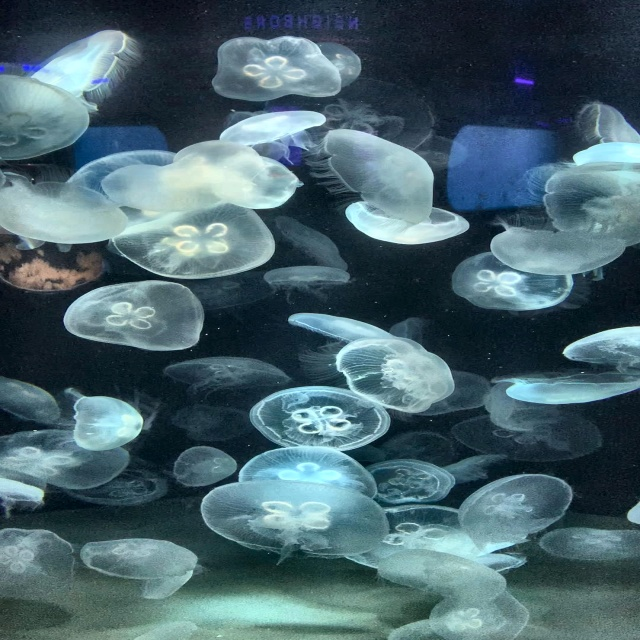jellyfish: (252, 74, 433, 165), (196, 482, 392, 564), (109, 196, 286, 282), (337, 504, 515, 577), (312, 127, 448, 222), (56, 275, 206, 354), (313, 336, 457, 418), (204, 32, 354, 107), (66, 145, 202, 227), (1, 168, 135, 251), (9, 50, 127, 142), (28, 22, 159, 104), (245, 385, 391, 457), (238, 443, 376, 516), (528, 162, 639, 248), (483, 215, 628, 280), (443, 253, 585, 318), (463, 473, 584, 548), (3, 429, 135, 492), (183, 145, 302, 213), (453, 412, 608, 460), (341, 195, 474, 249), (164, 351, 294, 404), (0, 526, 85, 603), (80, 535, 201, 589), (149, 258, 269, 310), (505, 370, 639, 416), (382, 547, 513, 594), (216, 107, 332, 158), (558, 102, 639, 173), (426, 587, 536, 639), (289, 308, 404, 357), (55, 394, 149, 448), (61, 463, 170, 508), (361, 459, 455, 507), (535, 524, 639, 564), (172, 403, 264, 445), (283, 40, 362, 88), (4, 375, 72, 429), (562, 324, 639, 371), (168, 443, 242, 490), (268, 266, 357, 305), (393, 424, 462, 467), (386, 618, 487, 639), (626, 502, 639, 525)
